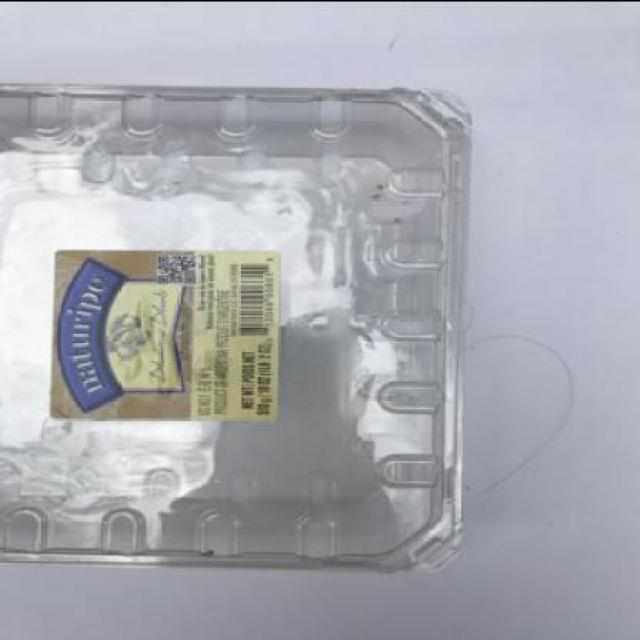PLASTIC: (2, 78, 473, 572)
